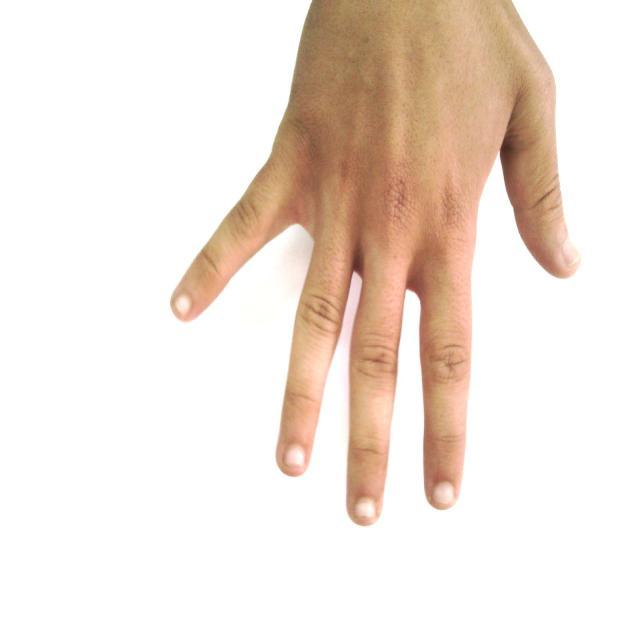Fingernail: (355, 499, 376, 523), (434, 482, 454, 506), (285, 445, 304, 468), (563, 241, 580, 265), (174, 296, 189, 317)
